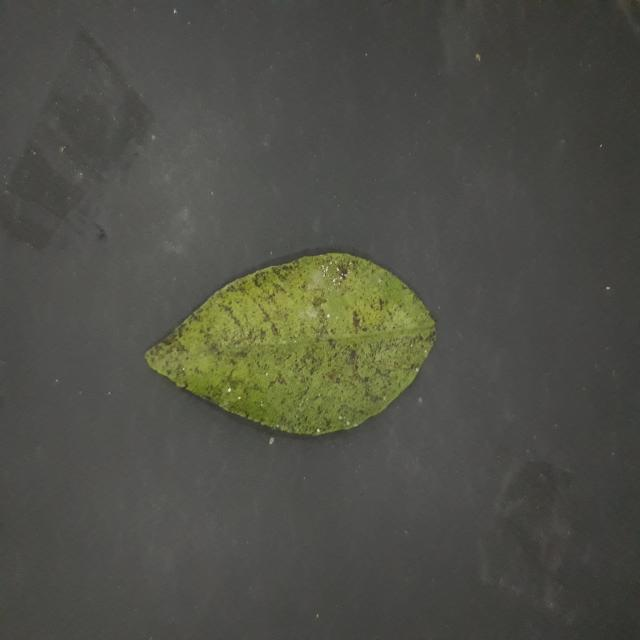greasy_spot: (145, 253, 436, 436)
